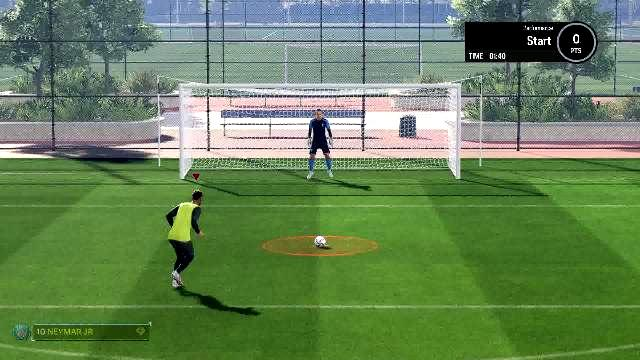bottom-left: (184, 136, 274, 180)
bottom-right: (362, 136, 452, 180)
center-down: (274, 135, 364, 179)
center-up: (276, 88, 366, 132)
circle: (264, 234, 380, 258)
football: (312, 236, 328, 248)
goalkeeper: (303, 108, 339, 180)
player: (158, 188, 208, 294), (164, 185, 212, 293)
top-left: (184, 90, 274, 134)
top-right: (364, 90, 452, 134)
